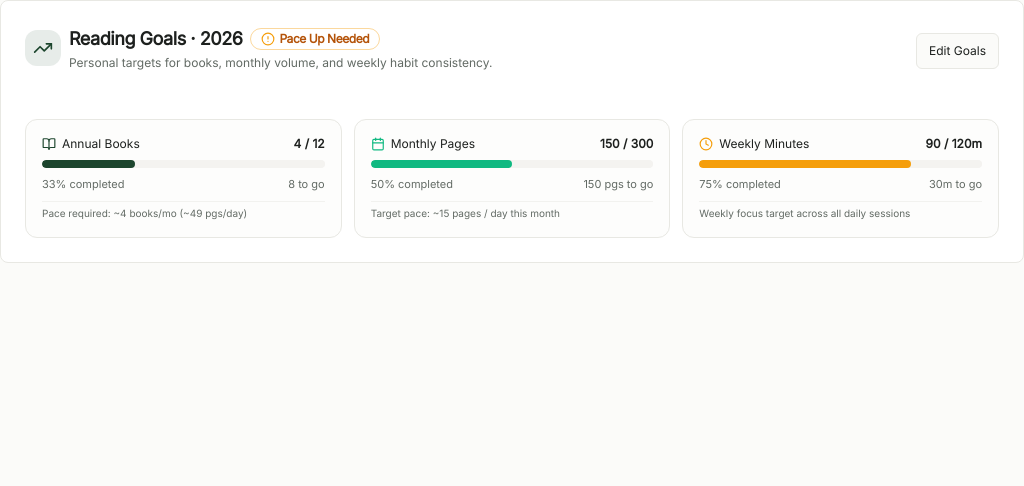
Test case: PersonalReadingGoalsCard › toggles edit mode when Edit Goals is clicked
Click the button "Edit Goals": (958, 51) x1=916 y1=33 x2=999 y2=69
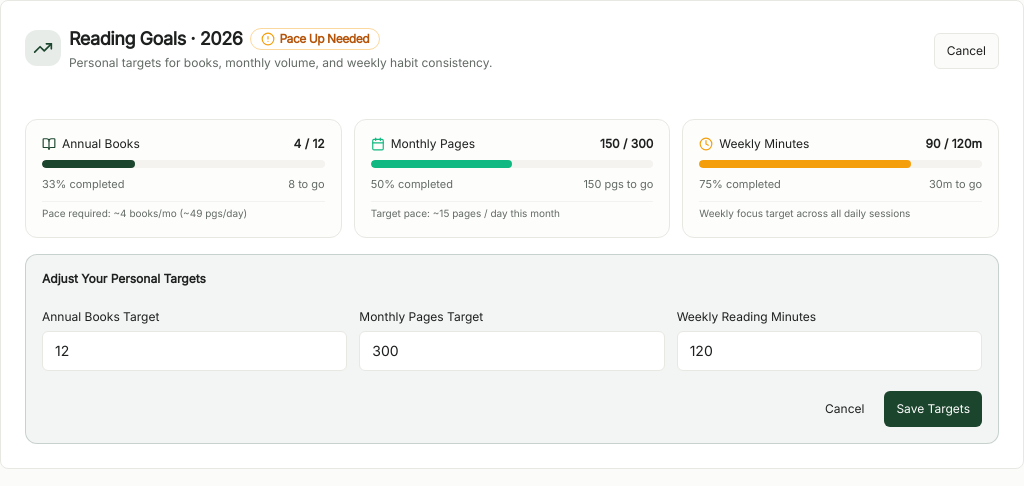
Result: the number field labelled "Annual Books Target" is shown at x1=42 y1=330 x2=347 y2=370
Result: the number field labelled "Monthly Pages Target" is shown at x1=359 y1=330 x2=665 y2=370
Result: the button "Save Targets" is shown at x1=884 y1=390 x2=982 y2=426
